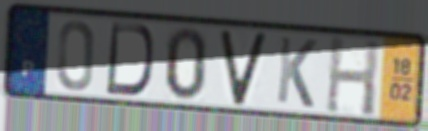0: (164, 24, 211, 103), (55, 18, 97, 93)
D: (103, 20, 156, 99)
H: (323, 33, 382, 119)
K: (274, 33, 319, 111)
V: (217, 29, 270, 108)
